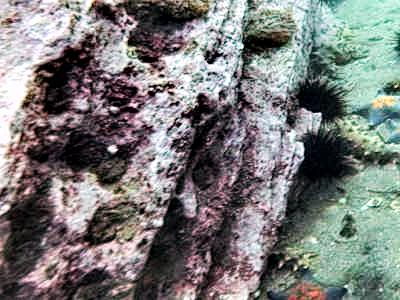urchin: (297, 119, 356, 186), (297, 77, 342, 114)
